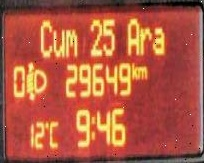0: (11, 61, 25, 97)
1: (28, 120, 33, 150)
2: (87, 15, 101, 57), (63, 61, 76, 97), (33, 120, 43, 150)
4: (95, 107, 110, 145), (104, 58, 118, 95)
5: (101, 15, 116, 57)
6: (109, 105, 126, 147), (91, 60, 104, 97)
9: (74, 105, 89, 148), (117, 58, 131, 97), (77, 60, 90, 98)
X: (38, 17, 53, 58), (125, 16, 139, 56), (64, 26, 77, 60), (152, 23, 165, 55), (138, 23, 150, 57), (52, 24, 64, 57), (48, 118, 59, 149), (89, 112, 95, 141), (131, 60, 138, 80), (137, 64, 146, 79)
